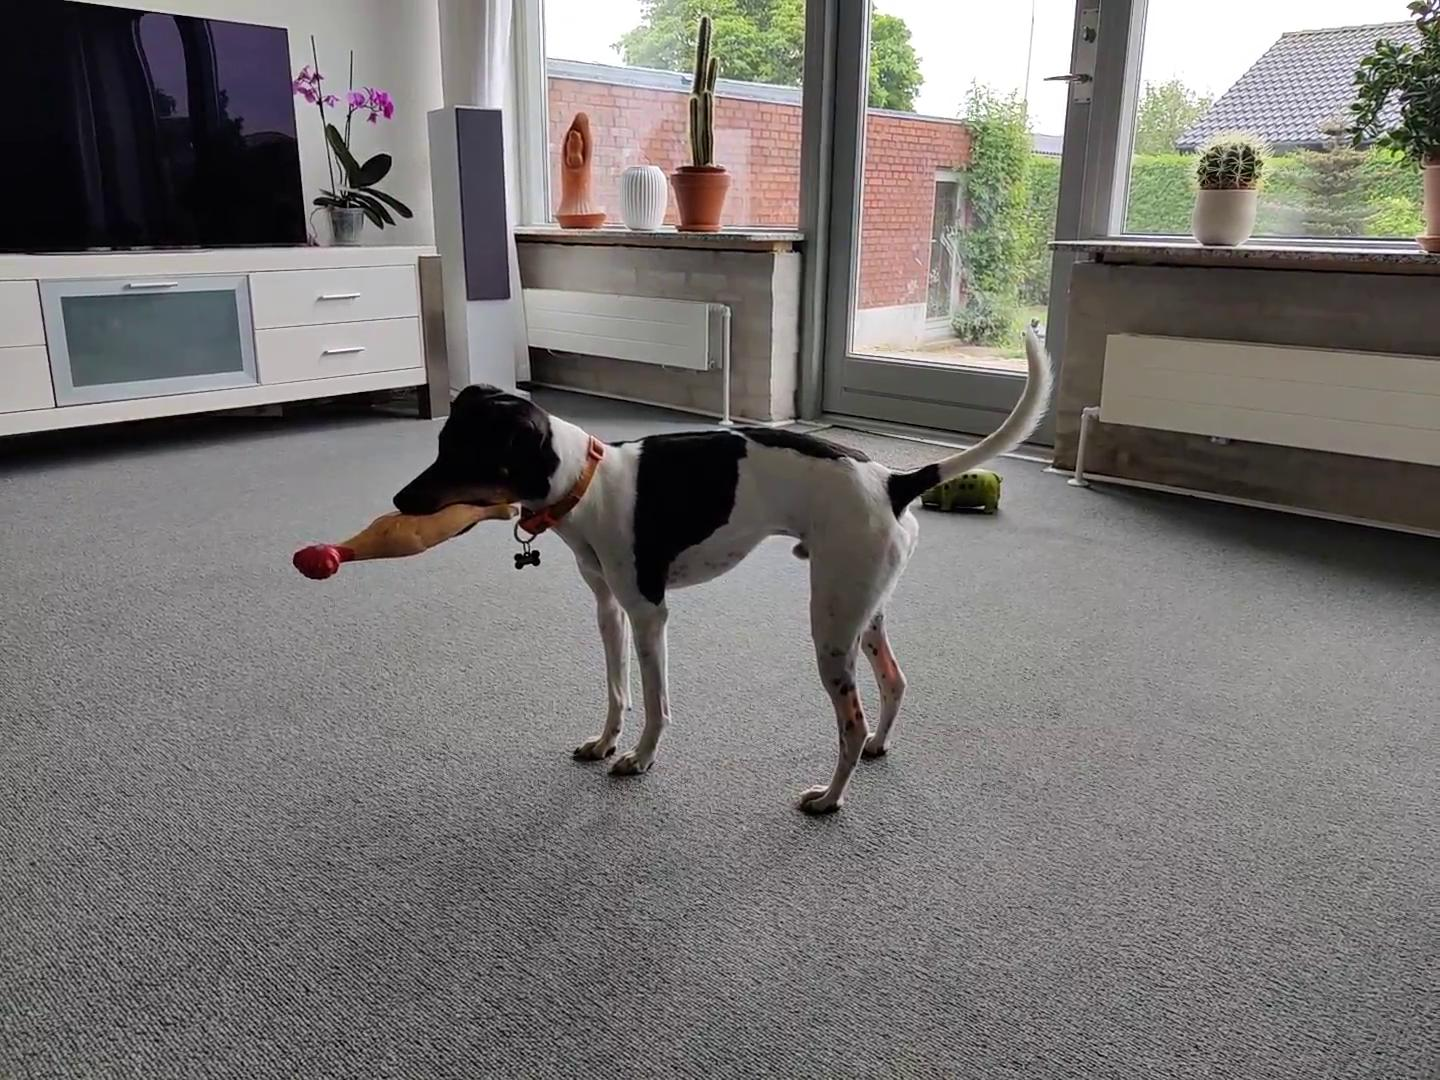Dog: (384, 323, 1059, 816)
